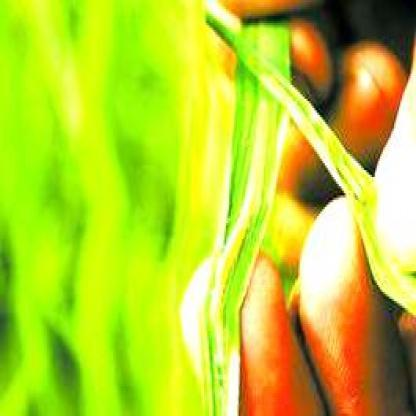leaf-folder: (198, 157, 268, 324), (310, 126, 374, 216)
